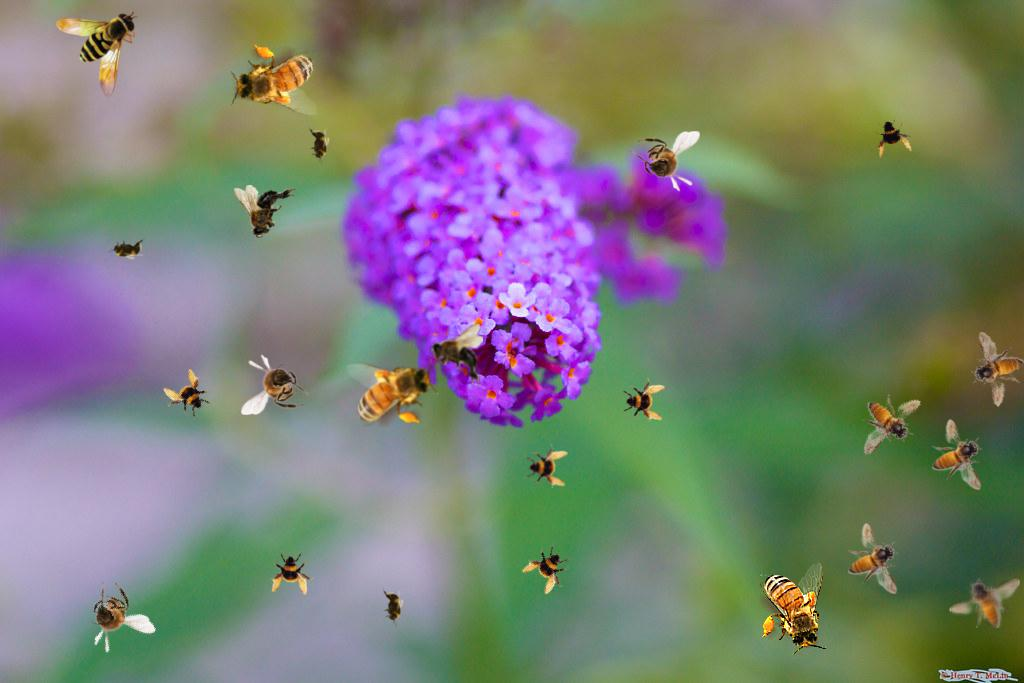Bee: (225, 37, 329, 122), (68, 571, 157, 663), (56, 11, 138, 99), (345, 359, 438, 427), (759, 562, 827, 655), (847, 384, 933, 457), (966, 331, 1024, 410), (630, 131, 700, 192), (241, 354, 311, 415), (156, 364, 220, 428), (518, 538, 580, 600), (932, 419, 982, 490), (848, 523, 898, 594), (949, 578, 1020, 628), (234, 185, 296, 238), (430, 324, 483, 386), (865, 108, 921, 164), (270, 551, 314, 595), (524, 444, 568, 488), (621, 378, 665, 422), (382, 587, 404, 627), (308, 125, 330, 165), (107, 238, 147, 260)
